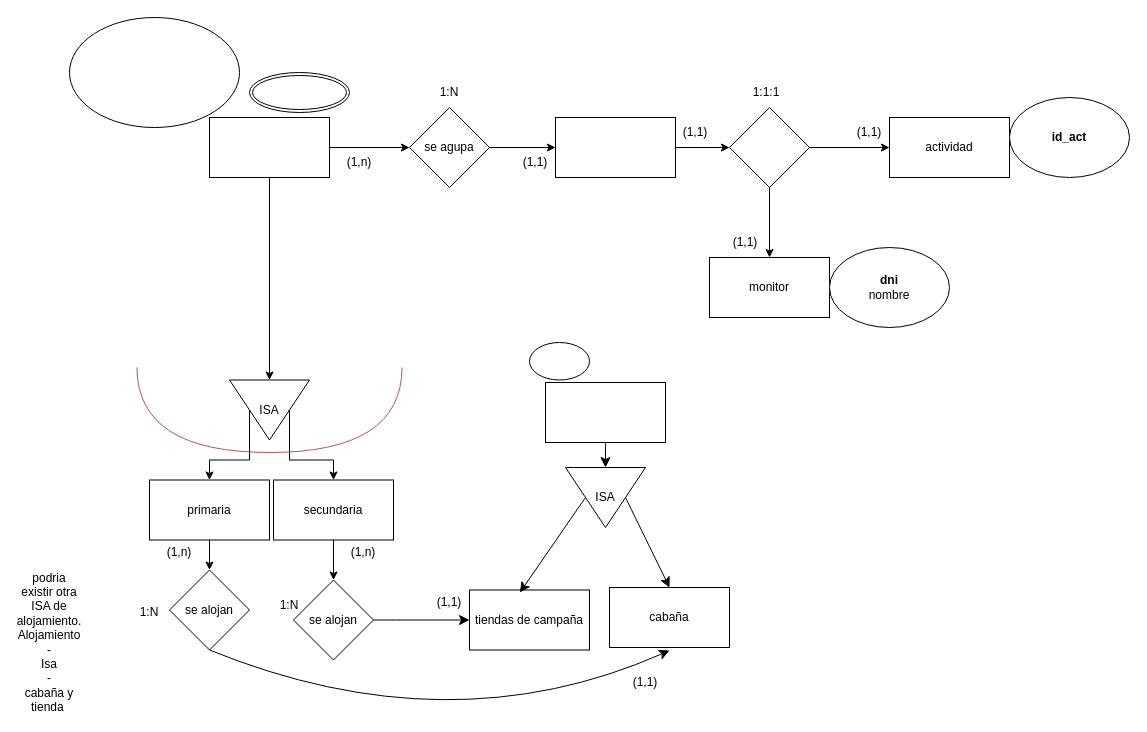
This 1147x732 diagram has some shape labels left out. The centre of each missing label's shape, as x and y in pixels:
alojamiento: pixel 605 412
equipo: pixel 615 147
niño: pixel 269 147
nombre apellidos edad dirección nombre de sus padres tipo enseñanza: pixel 154 72
nºplazas: pixel 559 361
realiza: pixel 769 147
telefono: pixel 299 92
